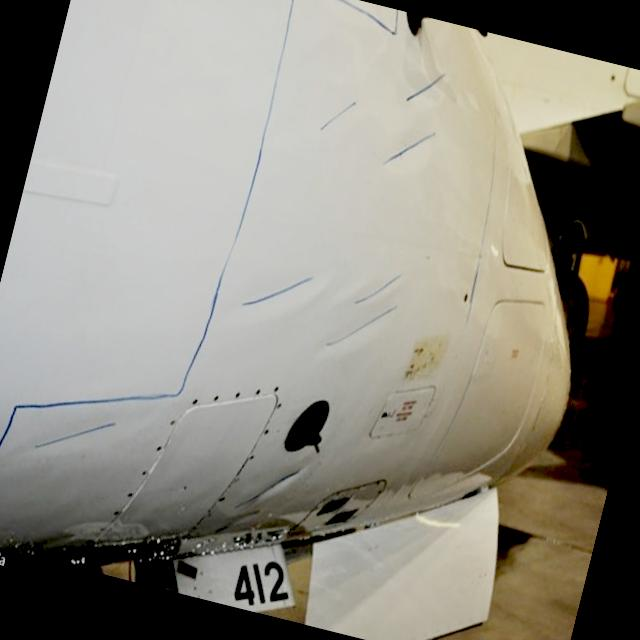dent: (362, 99, 452, 192)
